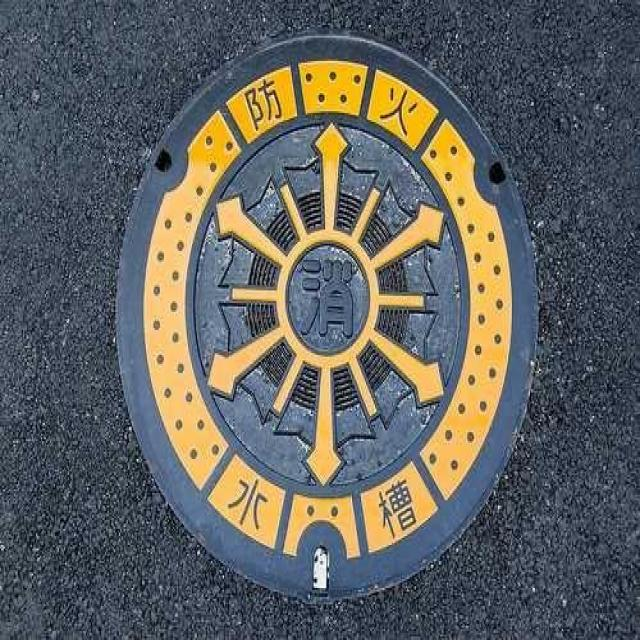manhole: (118, 35, 538, 601)
